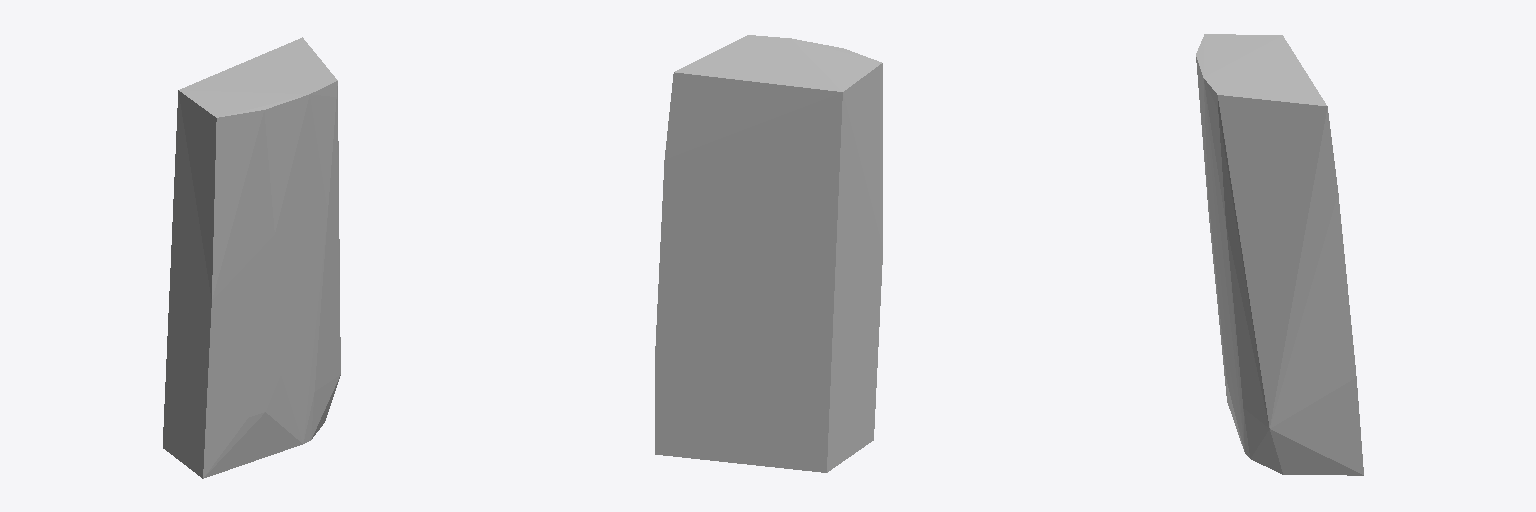
Rendered from trash_bin_collision_32.obj.
3 renders of one model, left to right at view 1: azimuth 30°, elevation 25°; view 2: azimuth 150°, elevation 25°; view 3: azimuth 270°, elevation 25°, orthographic.
Bounding box in the file's own units: 0.0352 × 0.0784 × 0.0322.